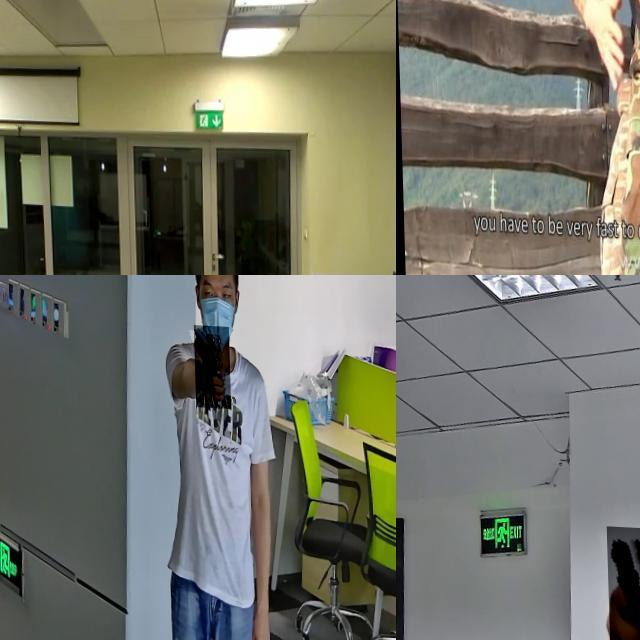gun-knife-thesis - v11 Yolov5 augmented: (604, 523, 640, 640), (192, 322, 229, 405)
